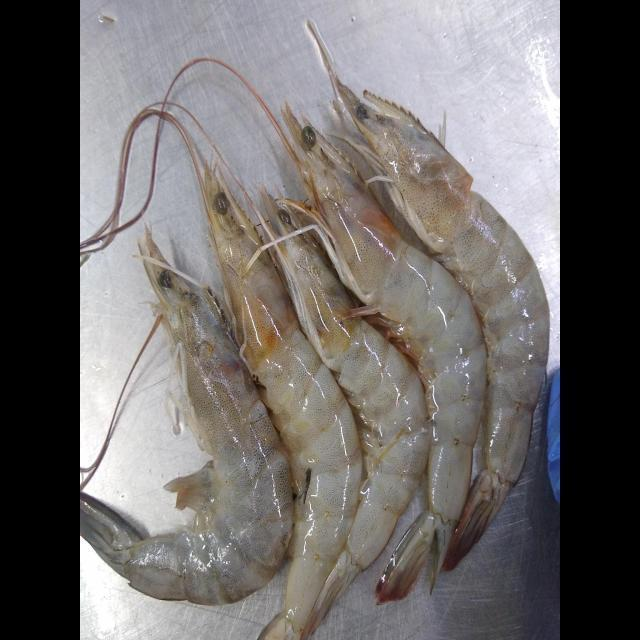shrimp: (311, 24, 551, 572), (284, 105, 487, 550), (80, 230, 293, 606), (203, 165, 362, 640), (275, 234, 429, 630)
